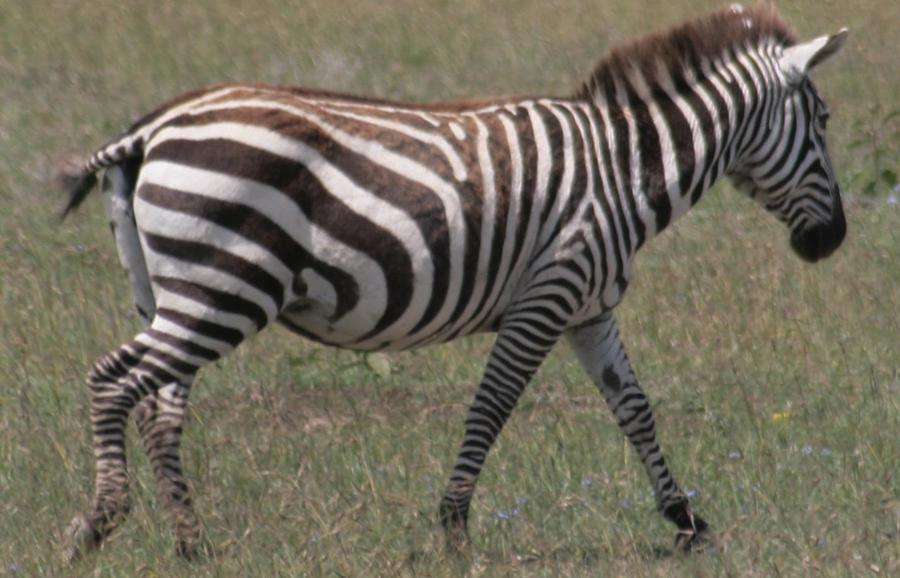zebra_plains: (119, 37, 667, 383)
